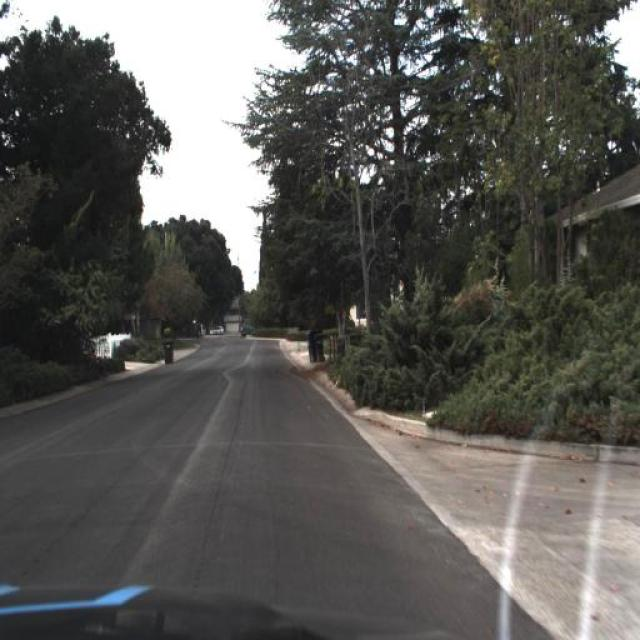car: (241, 318, 257, 338), (213, 326, 222, 335)
